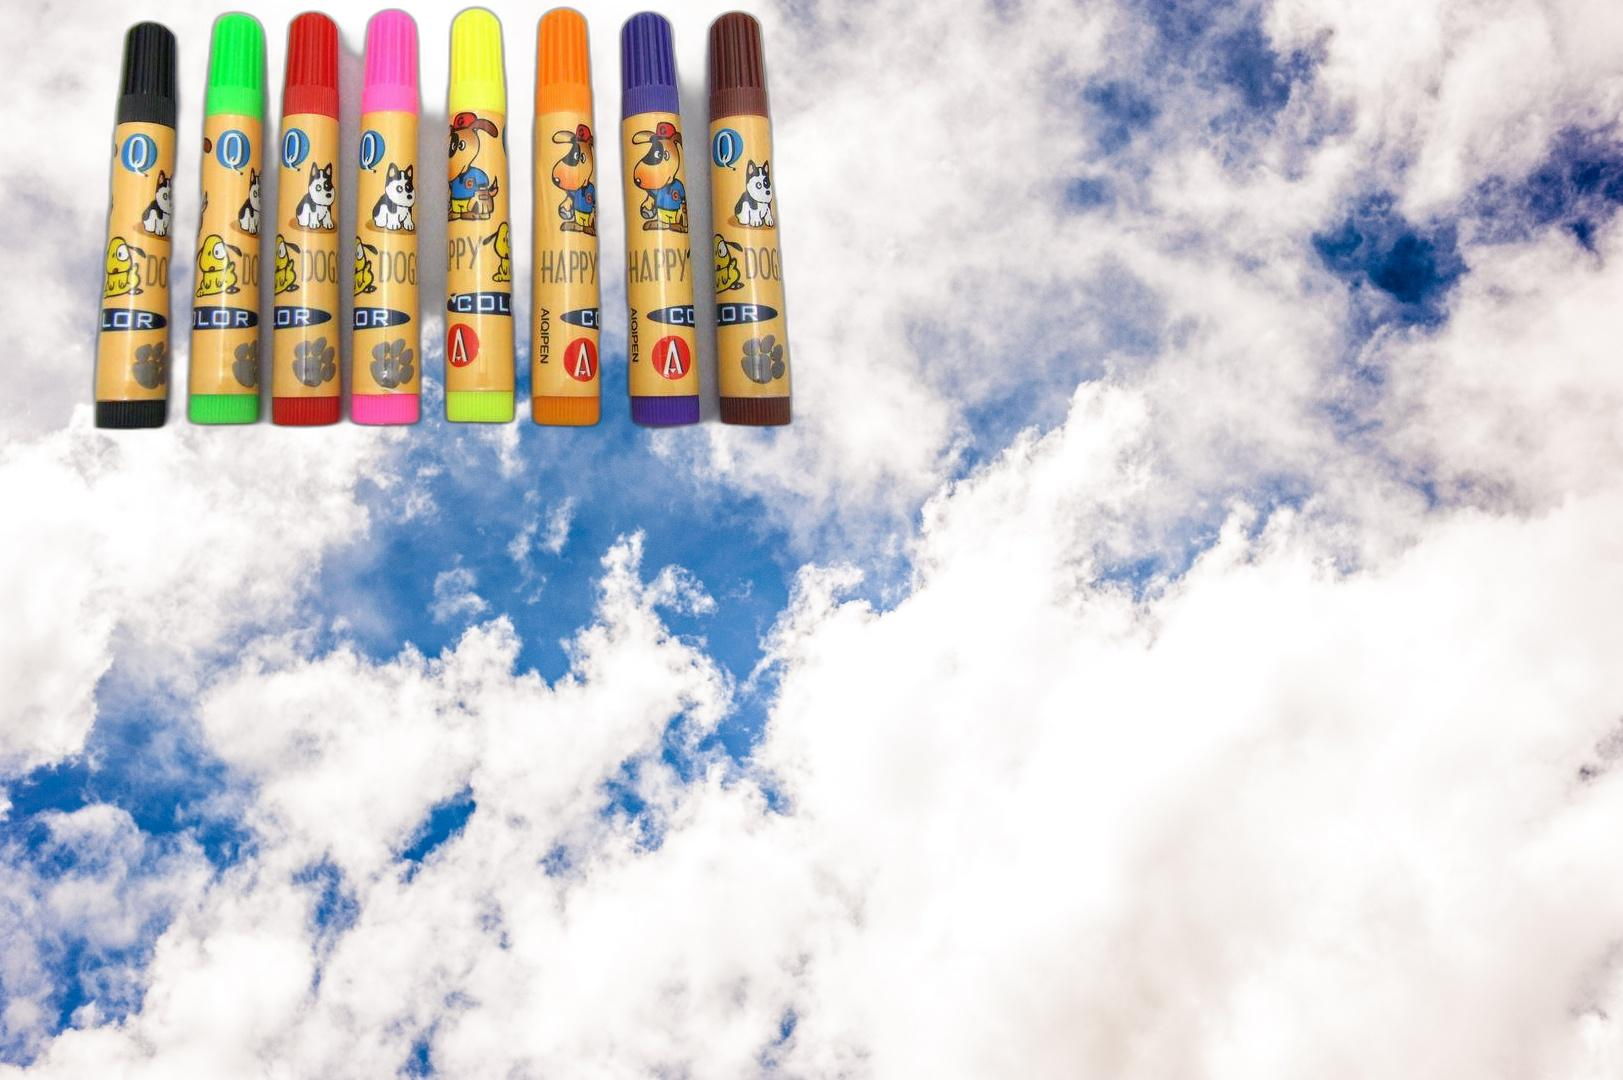penholder: (87, 2, 800, 434)
